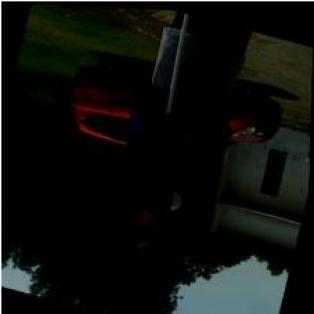Semaforo Rojo: (108, 116, 192, 253)
